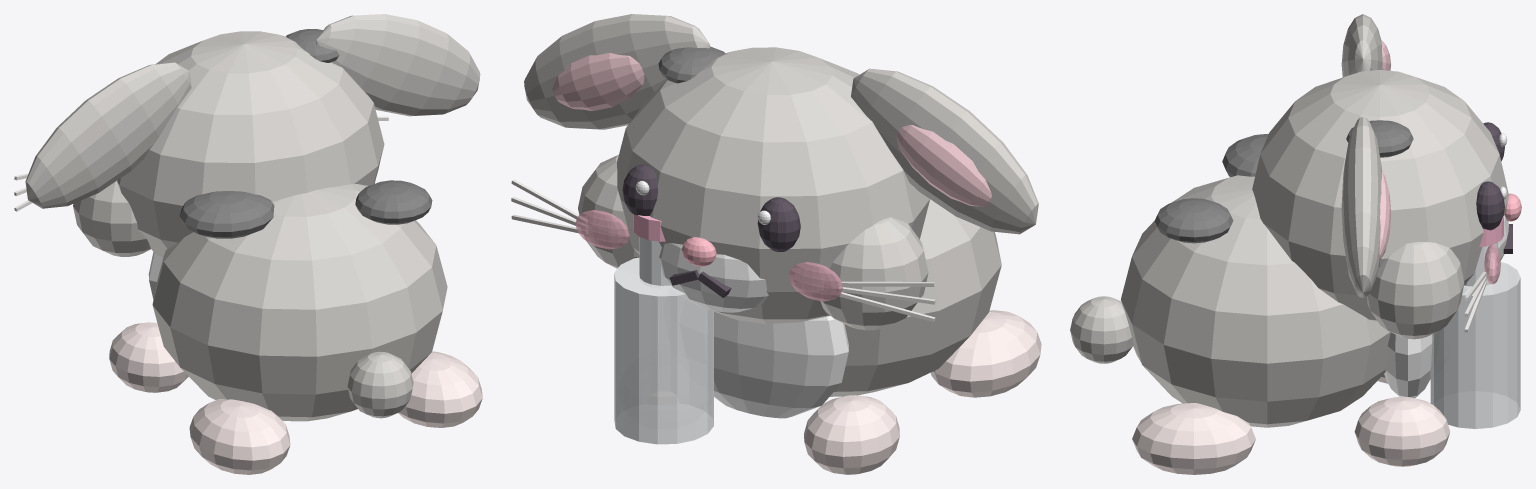
File: CuteHamsterMilk.glb
3 views of the same model, side by side, from view 1: azimuth 30°, elevation 25°; view 2: azimuth 150°, elevation 25°; view 3: azimuth 270°, elevation 25° (orthographic). The views are drawn at different scales.
Parts seen in each view (by area): view 1: CuteHamsterMilk_5, CuteHamsterMilk_6, CuteHamsterMilk_1; view 2: CuteHamsterMilk_5, CuteHamsterMilk_11, CuteHamsterMilk_4, CuteHamsterMilk_6, CuteHamsterMilk_10, CuteHamsterMilk_0, CuteHamsterMilk_8, CuteHamsterMilk_2, CuteHamsterMilk_1, CuteHamsterMilk_3, CuteHamsterMilk_7, CuteHamsterMilk_9; view 3: CuteHamsterMilk_5, CuteHamsterMilk_6, CuteHamsterMilk_4, CuteHamsterMilk_1, CuteHamsterMilk_11, CuteHamsterMilk_0, CuteHamsterMilk_10, CuteHamsterMilk_3, CuteHamsterMilk_2, CuteHamsterMilk_8.
Part boxes in pixels (x1,y1,x2,y2): CuteHamsterMilk_5: (25, 14, 480, 421); CuteHamsterMilk_6: (109, 322, 482, 474); CuteHamsterMilk_1: (179, 29, 432, 238); CuteHamsterMilk_5: (524, 14, 1038, 396); CuteHamsterMilk_11: (635, 180, 848, 418); CuteHamsterMilk_4: (614, 257, 713, 444); CuteHamsterMilk_6: (804, 310, 1041, 474); CuteHamsterMilk_10: (552, 52, 991, 206); CuteHamsterMilk_0: (622, 164, 800, 297); CuteHamsterMilk_8: (575, 210, 842, 301); CuteHamsterMilk_2: (511, 179, 935, 322); CuteHamsterMilk_1: (658, 46, 725, 83); CuteHamsterMilk_3: (639, 237, 670, 285); CuteHamsterMilk_7: (681, 237, 716, 266); CuteHamsterMilk_9: (633, 214, 665, 241); CuteHamsterMilk_5: (1070, 14, 1508, 427); CuteHamsterMilk_6: (1132, 346, 1450, 474); CuteHamsterMilk_4: (1430, 262, 1520, 428); CuteHamsterMilk_1: (1154, 120, 1413, 243); CuteHamsterMilk_11: (1384, 133, 1509, 398); CuteHamsterMilk_0: (1476, 122, 1512, 253); CuteHamsterMilk_10: (1379, 40, 1391, 260); CuteHamsterMilk_3: (1464, 242, 1498, 286); CuteHamsterMilk_2: (1464, 272, 1486, 332); CuteHamsterMilk_8: (1484, 244, 1500, 284).
Size of the model in its own units: 4.71 by 3.4 by 4.01.
